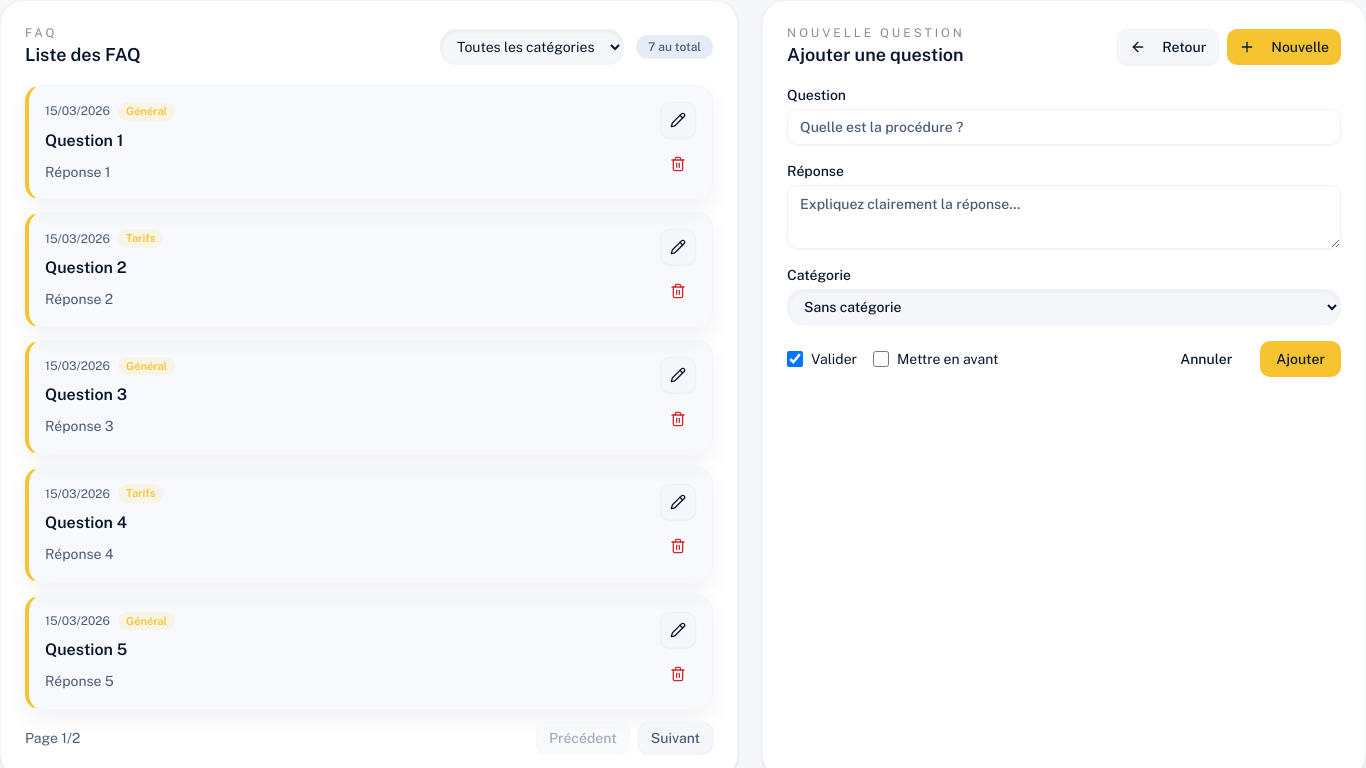
Test: FaqManager pagination › pagine par blocs de 5 et remonte en haut sur changement de page
Check: the text "Question 6" is not shown
Click the button "Suivant" at (675,738), box [638,722,713,754]
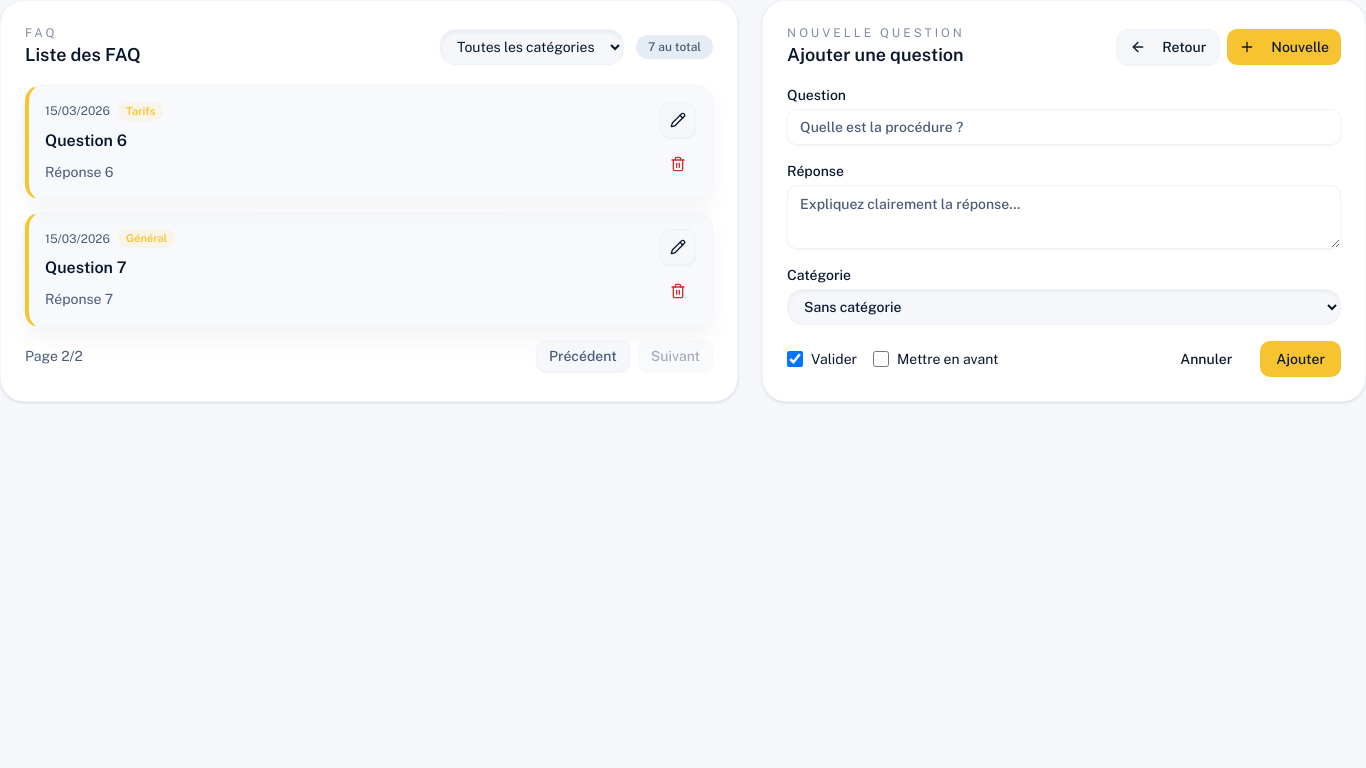
Check: the text "Question 6" is shown, box [45,131,127,150]
Check: the text "Question 7" is shown, box [45,258,127,277]
Check: the text "Question 1" is gone
Click the button "Précédent" at (583,356), box [536,340,630,372]
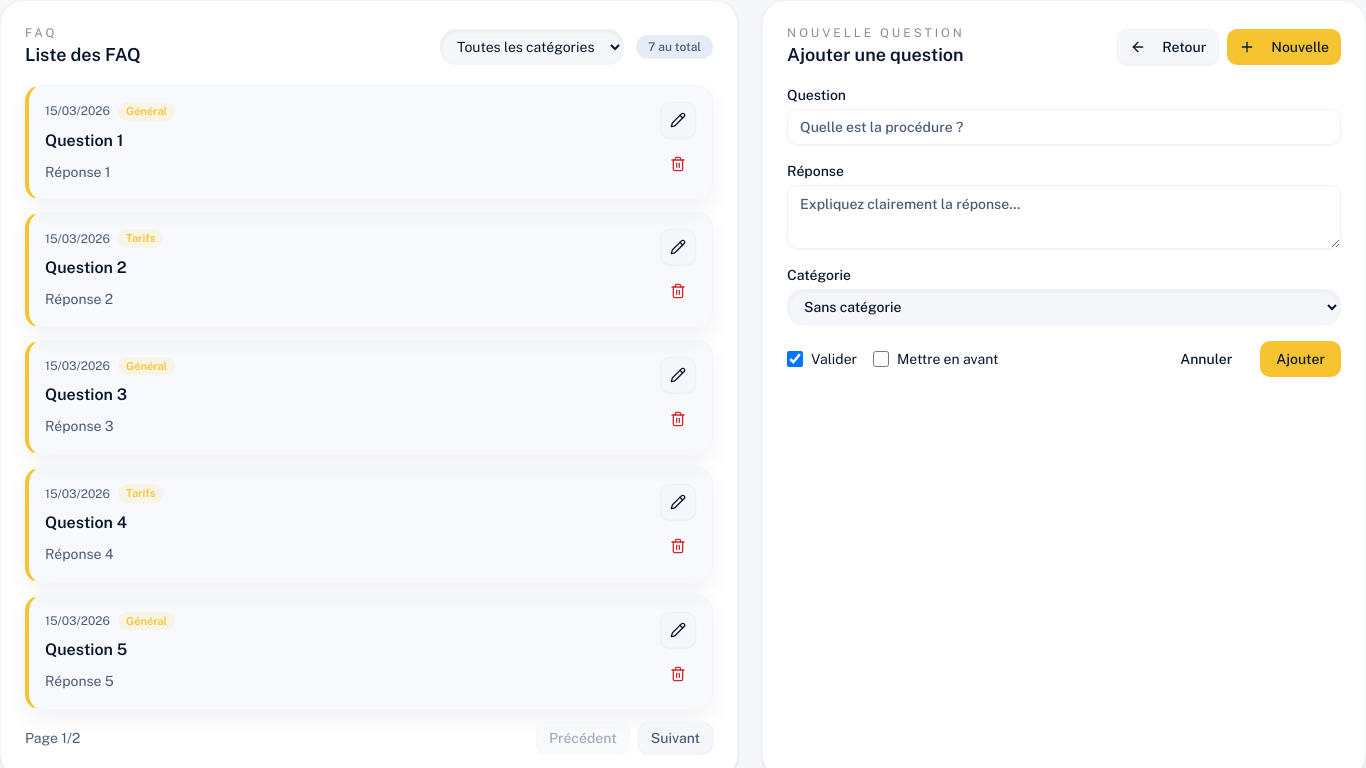
Check: the text "Question 1" is shown, box [45,131,123,150]
Check: the text "Question 5" is shown, box [45,640,127,659]
Check: the text "Question 7" is gone
